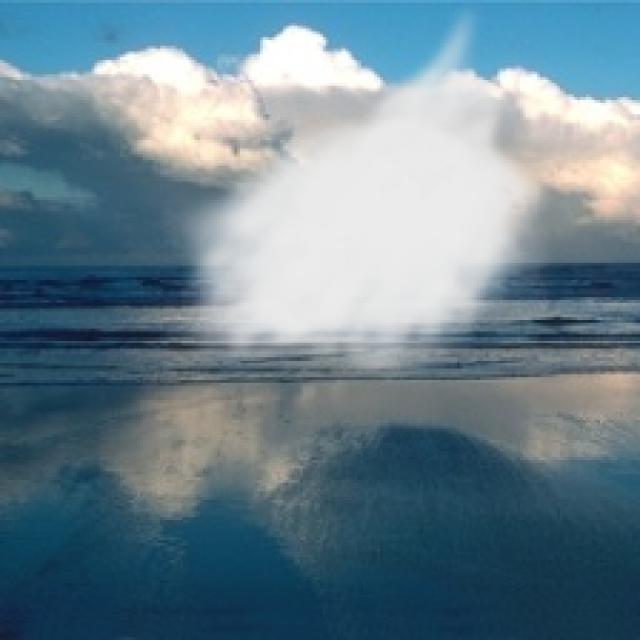smoke: (160, 0, 557, 386)
